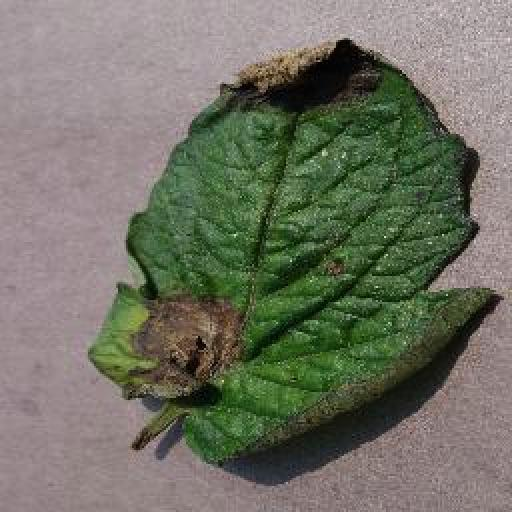disease_tomato: (86, 36, 496, 466)
